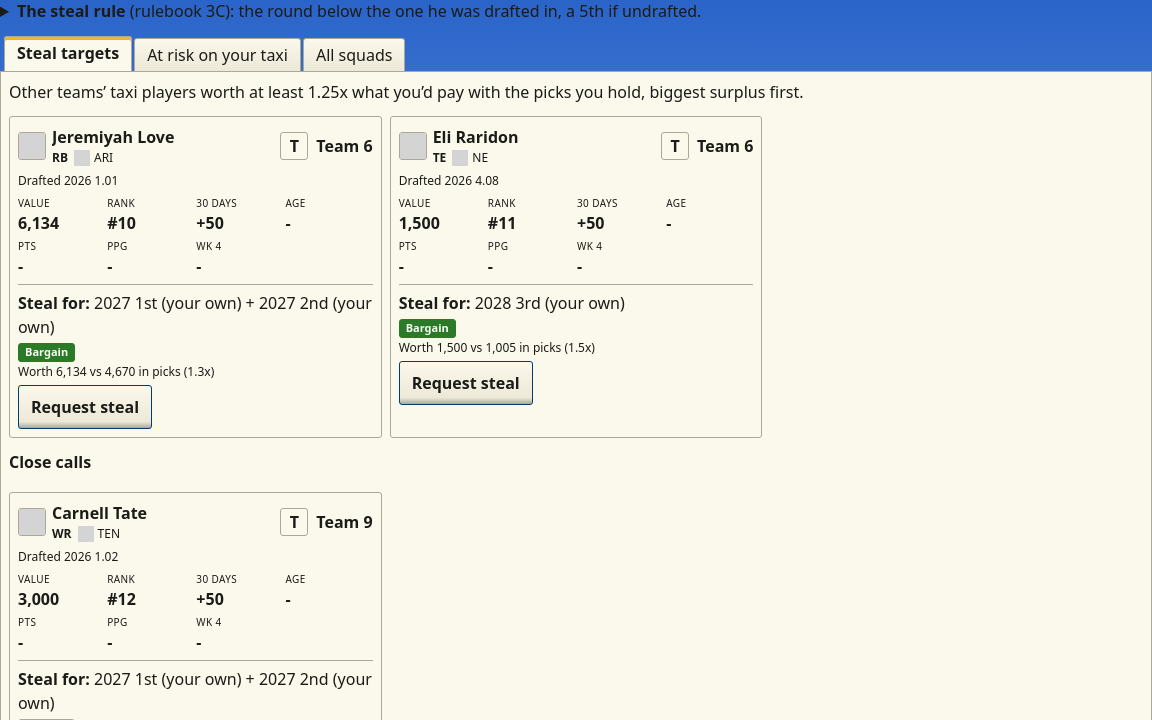
Taxi Squads › shows the API's reason when the request is refused
What coordinates should you click on to do the following:
click the button with aria-label "Request steal: Jeremiyah Love"
I would click on:
 (85, 407)
Its box is [18, 385, 152, 429].
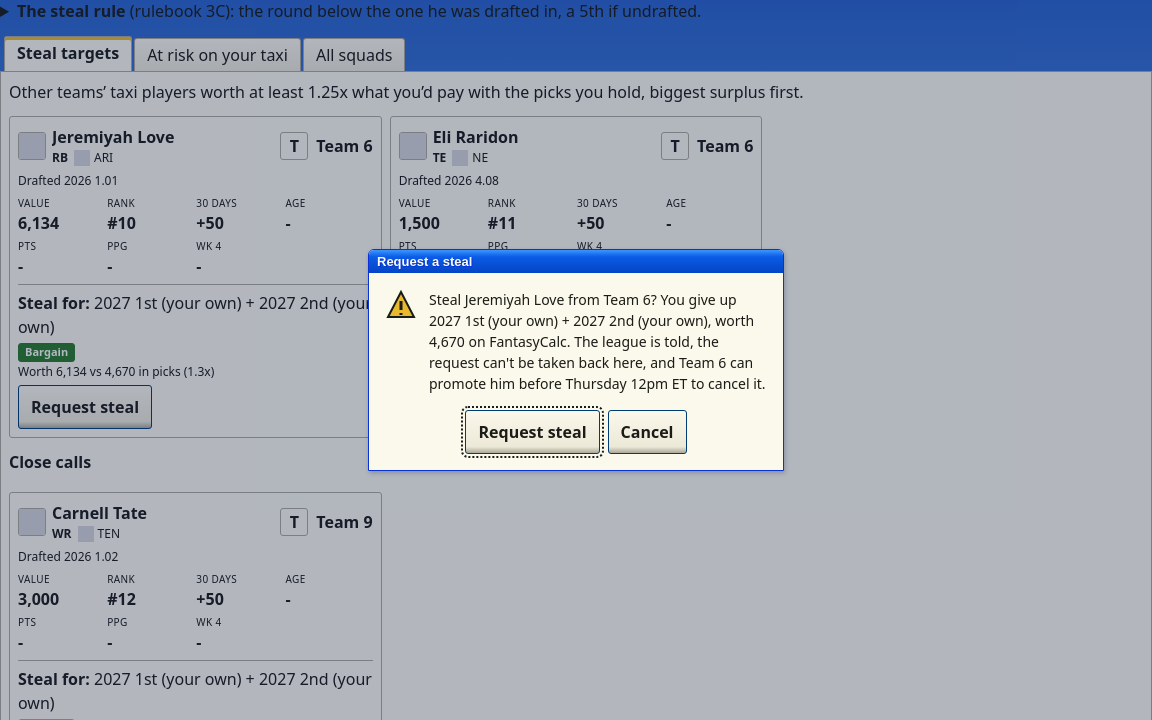
What coordinates should you click on to do the following:
click the button "Request steal"
I would click on:
 (533, 432)
Its box is [466, 410, 600, 454].
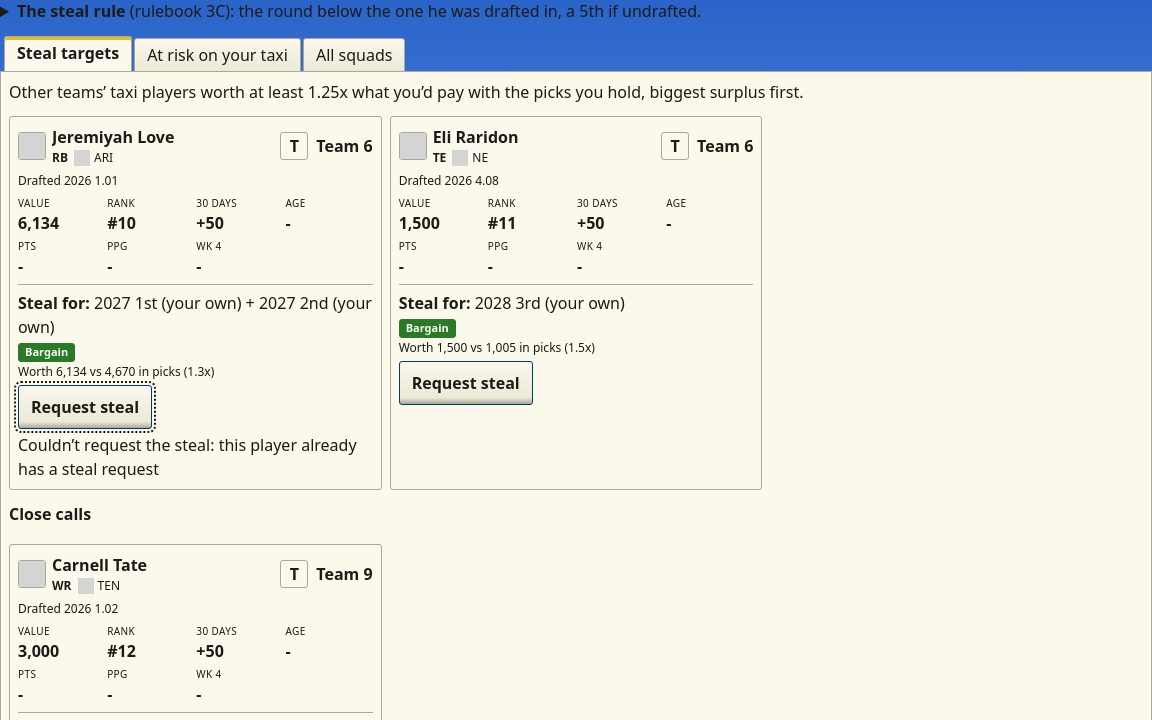
Result: the message reads "Couldn’t request the steal: this player already has a steal request" at [18, 433, 373, 481]
